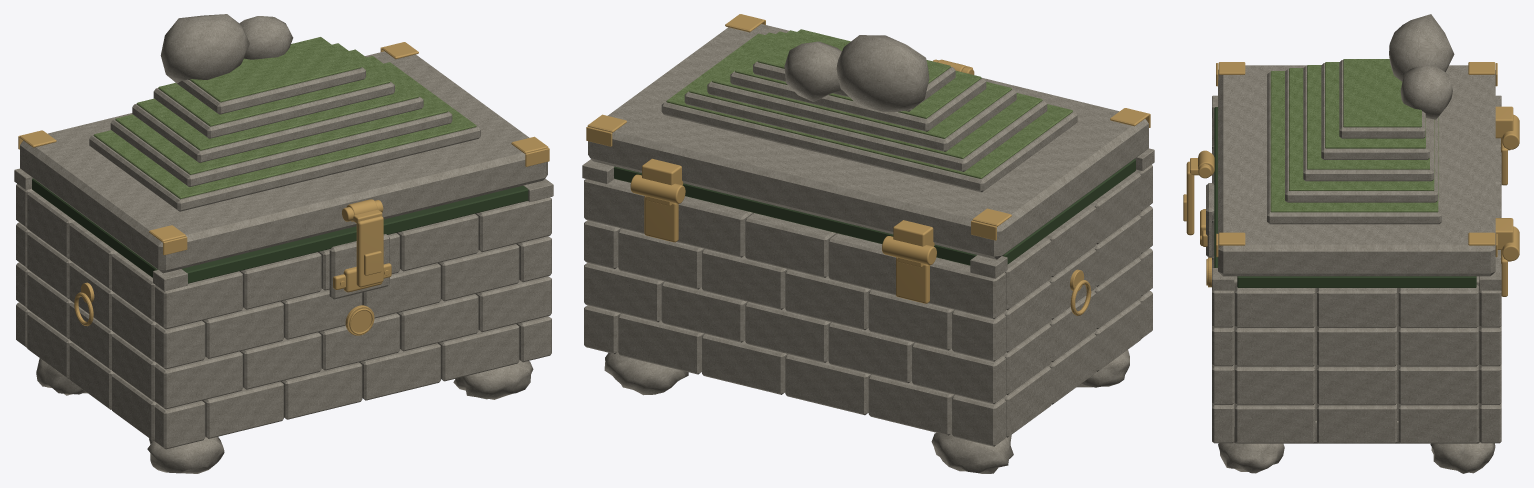
The model's file is peru.glb.
The picture shows the model from 3 angles, left to right: view 1: azimuth 30°, elevation 25°; view 2: azimuth 150°, elevation 25°; view 3: azimuth 270°, elevation 25°; orthographic projection. The views are drawn at different scales.
Parts seen in each view (by area): view 1: Lid / polished slab, Mineral seam / long, Terrace / green tread 0, Terrace / stone riser 0, Terrace / green tread 4, Ridge / west, Terrace / green tread 1, Terrace / stone riser 1, Terrace / green tread 2, Terrace / stone riser 2, Masonry / long 1 -1 0, Masonry / long 3 -1 0 (+44 smaller); view 2: Lid / polished slab, Terrace / stone riser 0, Ridge / west, Terrace / stone riser 1, Terrace / stone riser 2, Masonry / long 3 1 2, Masonry / long 1 1 0, Terrace / green tread 0, Masonry / long 1 1 3, Masonry / long 0 1 2, Masonry / long 0 1 4, Masonry / long 1 1 1 (+48 smaller); view 3: Lid / polished slab, Terrace / green tread 4, Terrace / green tread 0, Masonry / side 3 1 0, Masonry / side 3 1 2, Masonry / side 1 1 2, Masonry / side 1 1 0, Terrace / green tread 1, Terrace / stone riser 0, Masonry / side 3 1 1, Masonry / side 1 1 1, Masonry / side 0 1 0 (+38 smaller).
Part boxes in pixels (left/top/right/bottom): Lid / polished slab: left=20, top=51, right=547, bottom=273; Mineral seam / long: left=182, top=185, right=528, bottom=283; Terrace / green tread 0: left=93, top=62, right=476, bottom=199; Terrace / stone riser 0: left=89, top=126, right=480, bottom=211; Terrace / green tread 4: left=189, top=37, right=361, bottom=102; Ridge / west: left=160, top=14, right=249, bottom=83; Terrace / green tread 1: left=115, top=56, right=447, bottom=174; Terrace / stone riser 1: left=110, top=111, right=452, bottom=186; Terrace / green tread 2: left=136, top=49, right=419, bottom=150; Terrace / stone riser 2: left=132, top=96, right=423, bottom=162; Masonry / long 1 -1 0: left=154, top=351, right=242, bottom=409; Masonry / long 3 -1 0: left=154, top=271, right=242, bottom=329; Lid / polished slab: left=588, top=24, right=1148, bottom=259; Terrace / stone riser 0: left=661, top=101, right=1077, bottom=192; Ridge / west: left=836, top=35, right=929, bottom=111; Terrace / stone riser 1: left=684, top=91, right=1047, bottom=171; Terrace / stone riser 2: left=707, top=81, right=1016, bottom=151; Masonry / long 3 1 2: left=745, top=213, right=836, bottom=277; Masonry / long 1 1 0: left=912, top=343, right=1005, bottom=404; Terrace / green tread 0: left=666, top=33, right=1072, bottom=178; Masonry / long 1 1 3: left=661, top=281, right=748, bottom=342; Masonry / long 0 1 2: left=785, top=354, right=871, bottom=415; Masonry / long 0 1 4: left=618, top=313, right=704, bottom=374; Masonry / long 1 1 1: left=828, top=322, right=915, bottom=383; Lid / polished slab: left=1218, top=65, right=1495, bottom=276; Terrace / green tread 4: left=1343, top=59, right=1421, bottom=127; Terrace / green tread 0: left=1270, top=71, right=1438, bottom=212; Masonry / side 3 1 0: left=1235, top=284, right=1315, bottom=327; Masonry / side 3 1 2: left=1398, top=285, right=1478, bottom=327; Masonry / side 1 1 2: left=1398, top=365, right=1478, bottom=405; Masonry / side 1 1 0: left=1235, top=365, right=1315, bottom=405; Terrace / green tread 1: left=1289, top=68, right=1434, bottom=190; Terrace / stone riser 0: left=1267, top=72, right=1441, bottom=224; Masonry / side 3 1 1: left=1317, top=288, right=1396, bottom=327; Masonry / side 1 1 1: left=1317, top=365, right=1396, bottom=405; Masonry / side 0 1 0: left=1235, top=403, right=1315, bottom=443.
Size of the model in its own units: 3.79 by 3.32 by 2.88.
Materials: 4 (2 with a texture image).
